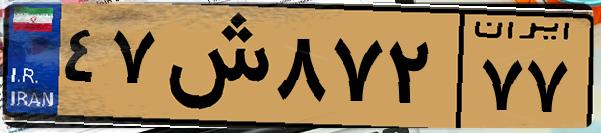2: (385, 28, 445, 110)
4: (57, 26, 110, 100)
7: (330, 28, 385, 110), (475, 38, 525, 113), (525, 38, 570, 115), (110, 28, 158, 98)
8: (270, 28, 330, 110)
ش: (158, 12, 270, 120)
